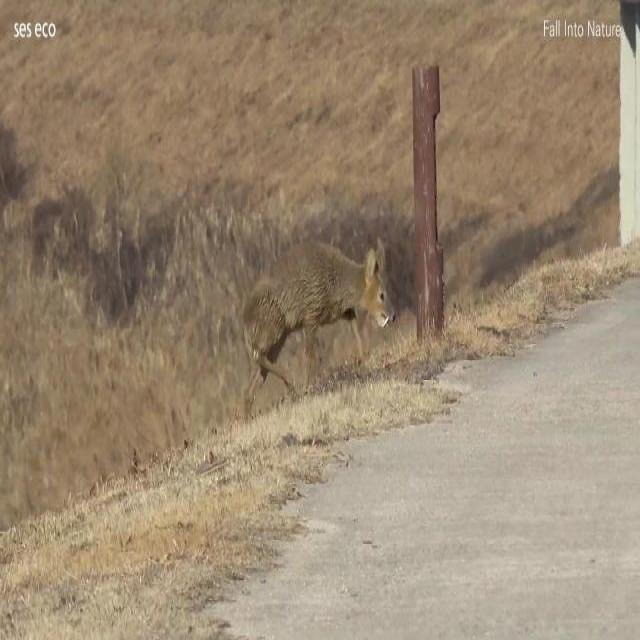deer: (242, 235, 397, 414)
